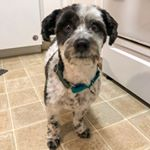puppy: (34, 3, 120, 150)
